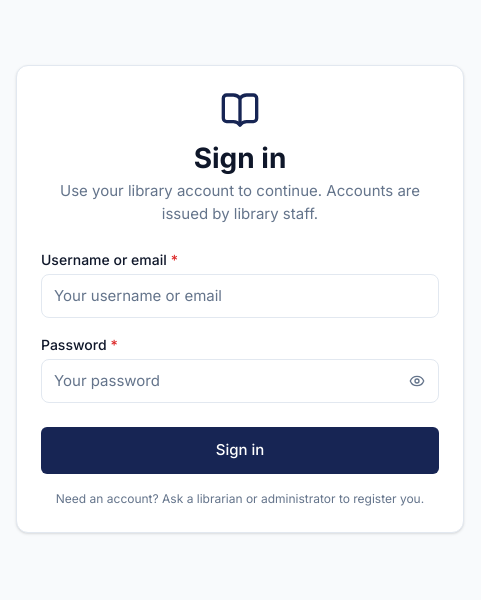
Test case: LoginPage › shows an error alert when authentication fails
Type "admin" into the field labelled "Username or email*". click: (240, 296)
box: [41, 274, 439, 318]
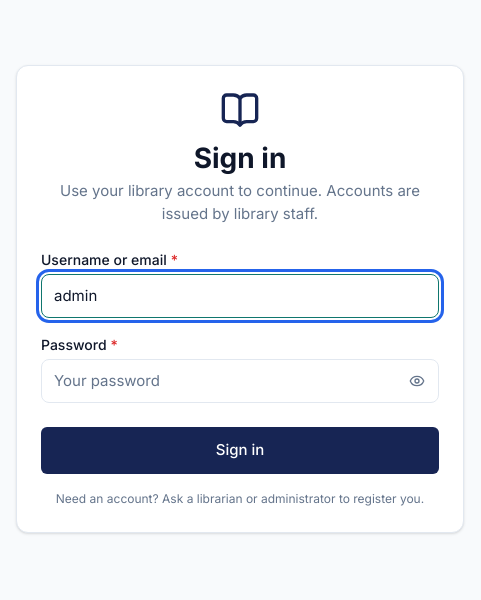
Type "wrong" into the password field labelled "Password*". click: (240, 381)
box: [41, 359, 439, 403]
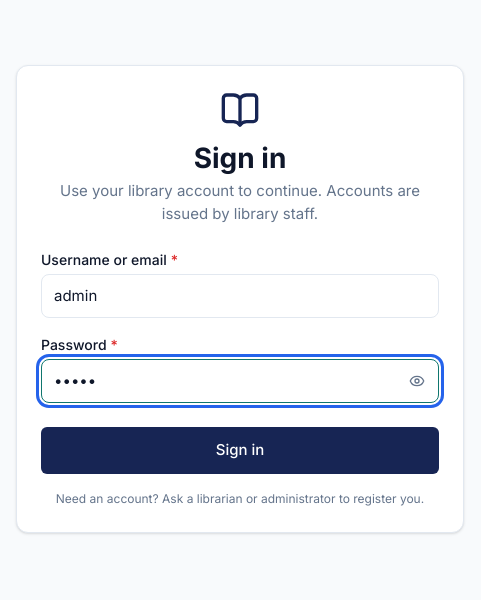
Click the button "Sign in". click: (240, 450)
box: [41, 427, 439, 474]
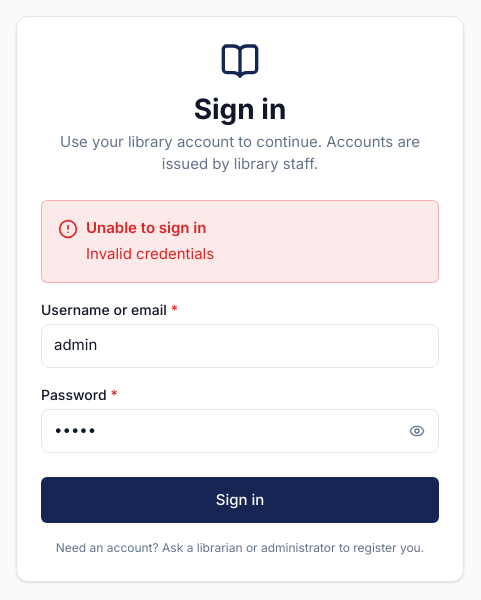
Expected: the message shows "Invalid credentials", [86, 244, 214, 263]
